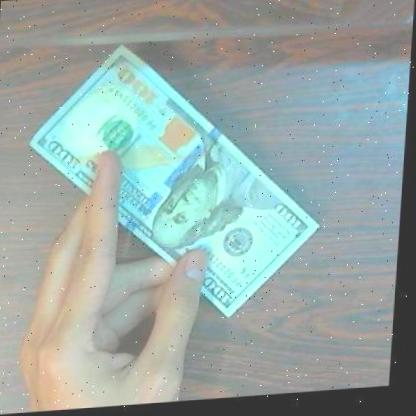one_hundred-front: (18, 36, 335, 336)
